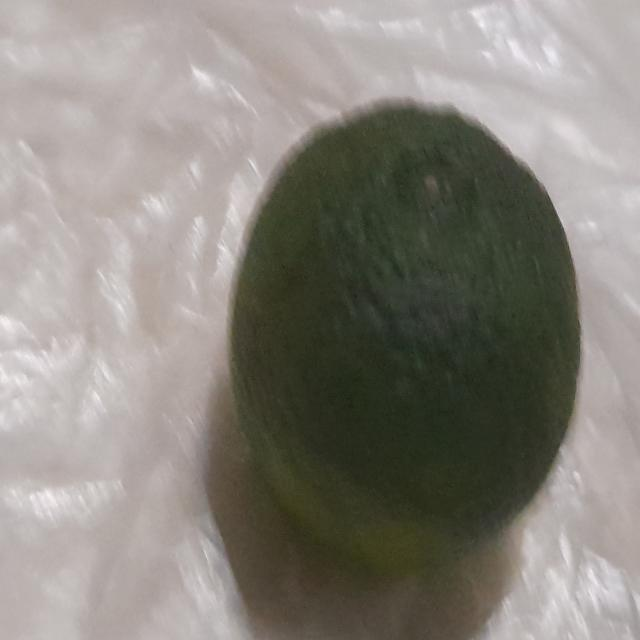heathy: (226, 95, 585, 584)
